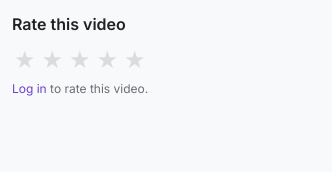
Test: StarRating › shows 'Log in to rate' error when no token on submit
Click the 1st button "★".
click(25, 60)  # box 12,46 -> 38,74
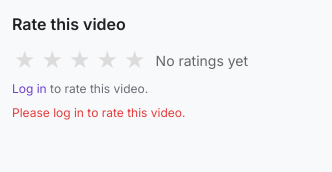
Expected: the message shows "Please log in", 12,105 -> 185,120
